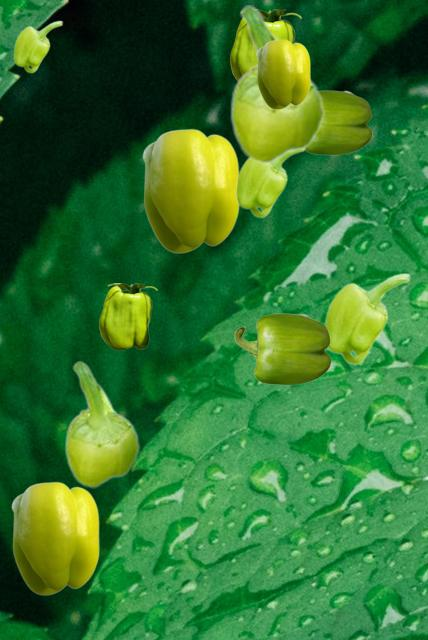bell_pepper: (229, 5, 324, 163), (142, 128, 238, 252), (11, 481, 98, 594), (64, 361, 139, 487), (324, 272, 410, 364), (234, 313, 330, 384), (230, 9, 300, 80), (235, 150, 305, 217), (306, 90, 371, 154), (99, 283, 156, 349), (256, 39, 309, 108), (13, 20, 62, 72)
